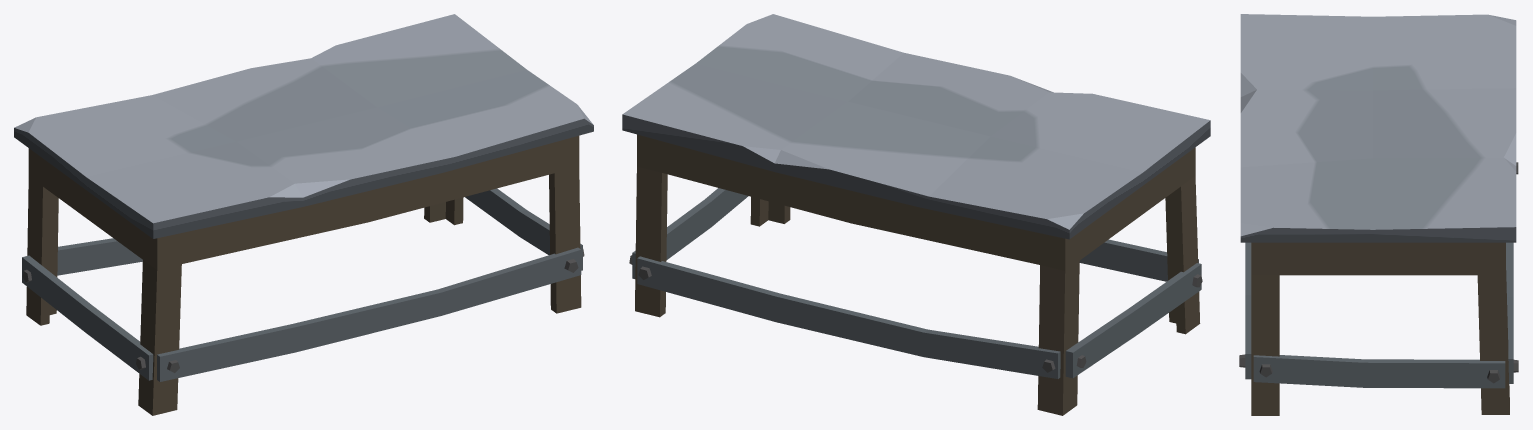
File: SM_Prop_Table_Metal.glb
3 renders of one model, left to right at view 1: azimuth 30°, elevation 25°; view 2: azimuth 150°, elevation 25°; view 3: azimuth 270°, elevation 25°, orthographic. The views are drawn at different scales.
Visible parts, largest first — view 1: SM_Prop_Table_Metal; view 2: SM_Prop_Table_Metal; view 3: SM_Prop_Table_Metal.
Part boxes in pixels (box(x1,y1,x2,y2)): SM_Prop_Table_Metal: box(14, 14, 593, 415); SM_Prop_Table_Metal: box(622, 14, 1210, 415); SM_Prop_Table_Metal: box(1239, 14, 1518, 415).
Size of the model in its own units: 2.28 by 0.969 by 1.25.
Materials: 1 (1 with a texture image).
